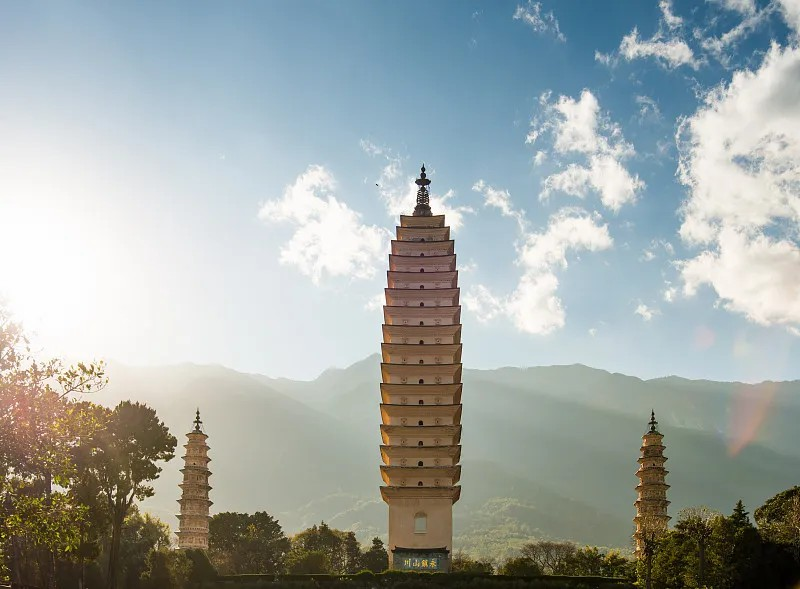ThreePagoda: (380, 163, 462, 567)
